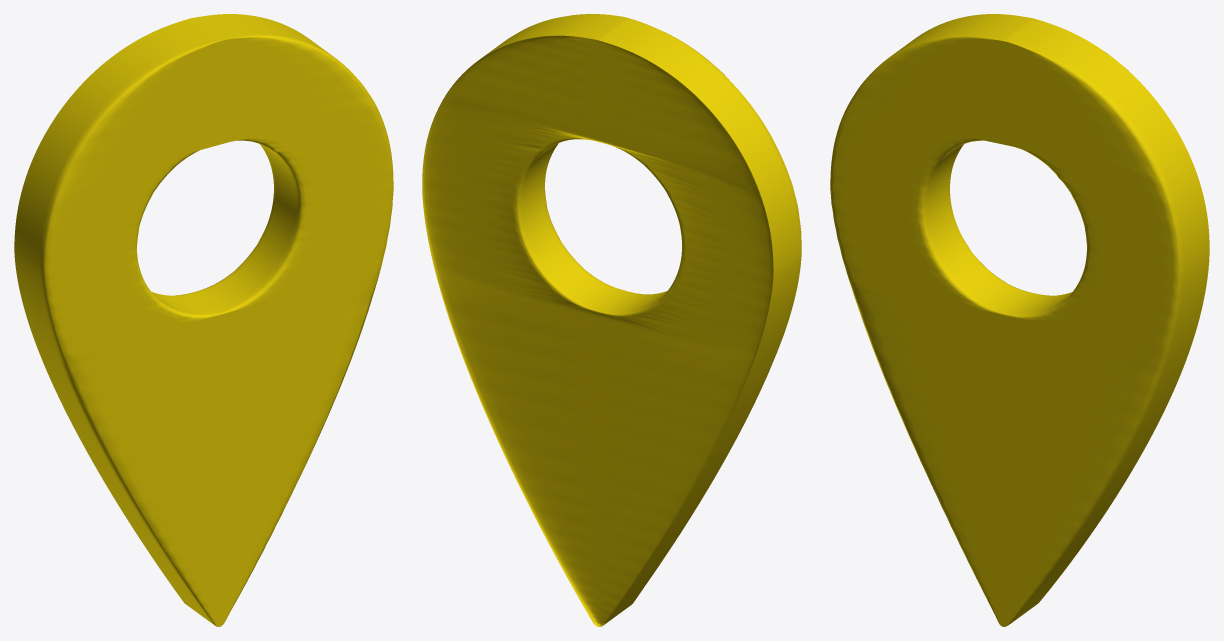
The model's file is yellow.gltf.
3 renders of one model, left to right at view 1: azimuth 30°, elevation 25°; view 2: azimuth 150°, elevation 25°; view 3: azimuth 330°, elevation 25°, orthographic.
Parts seen in each view (by area): view 1: Curve_2; view 2: Curve_2; view 3: Curve_2.
Boxes of the visible parts, box(x1,y1,x2,y2) form: Curve_2: box(14, 14, 393, 626); Curve_2: box(422, 14, 801, 626); Curve_2: box(830, 14, 1209, 626).
Size of the model in its own units: 0.2761 by 0.4404 by 0.0416.
